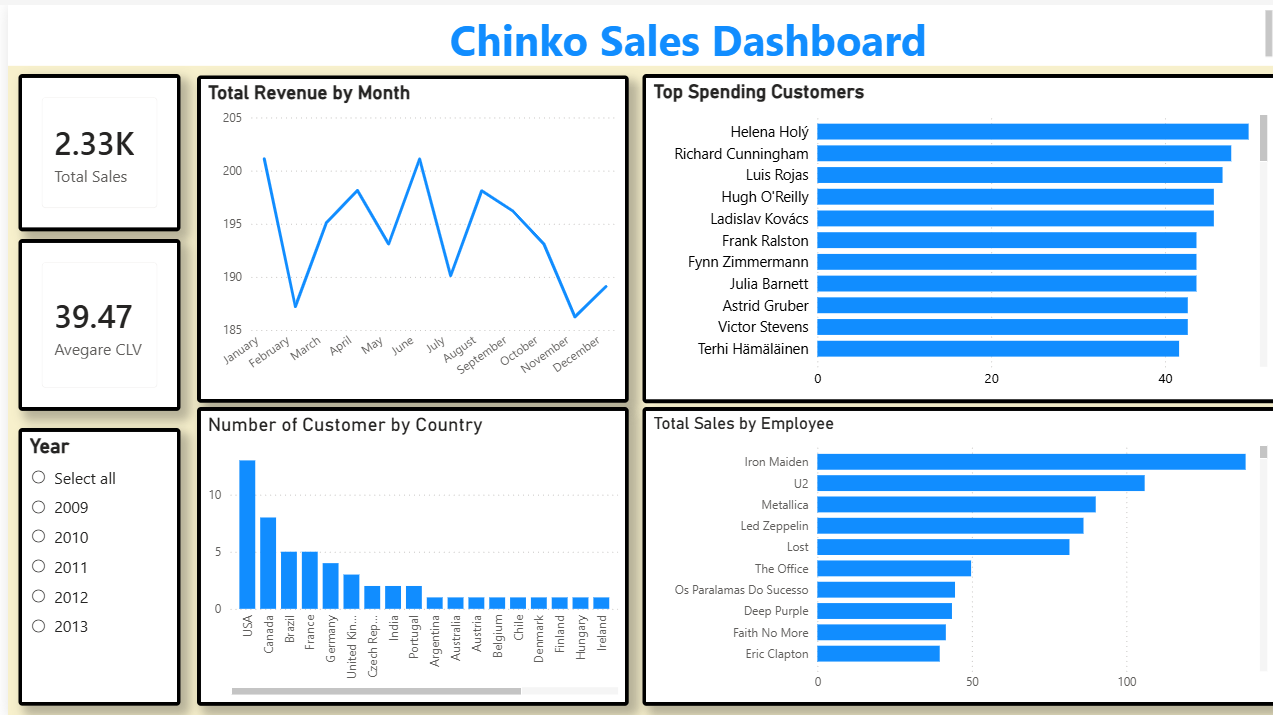

The page's visual inventory and layout, read from the dashboard file:
{"tool":"powerbi","page":{"name":"Dashboard","canvas":[1280,720],"ordinal":3},"visuals":[{"type":"cardVisual","fields":{"Data":["invoices.Total Sales"]},"box":[11.3,69.6,163.5,158.7],"z":0},{"type":"cardVisual","fields":{"Data":["invoices.Avegare CLV"]},"box":[11.3,236.4,163.5,173.3],"z":1000},{"type":"textbox","box":[0,0,1280.8,61.5],"z":2000},{"type":"lineChart","title":" Total Revenue by Month","fields":{"Y":["Sum(invoices.Total)"],"Category":["invoices.InvoiceDate.Variation.Date Hierarchy.Month"]},"box":[191.1,71.2,435.6,330.3],"z":3000},{"type":"columnChart","title":"Number of Customer by Country","fields":{"Category":["customers.Country"],"Y":["CountNonNull(customers.CustomerId)"]},"box":[191.1,404.8,435.6,301.2],"z":4000},{"type":"barChart","title":"Total Sales by Employee","fields":{"Category":["artists.Name"],"Y":["invoices.Total Sales"]},"box":[639.6,404.8,641.2,301.2],"z":5000},{"type":"listSlicer","fields":{"Values":["invoices.InvoiceDate.Variation.Date Hierarchy.Year"]},"box":[11.3,425.9,163.5,280.1],"z":7000},{"type":"barChart","title":"Top Spending Customers","fields":{"Category":["customers.Full Name"],"Y":["invoices.Avegare CLV"]},"box":[639.6,69.6,641.2,331.9],"z":8000}]}

Visuals, with their boxes in screenshot pixels (x1, y1, x2, y2), scaled from the page's 1280x720 canvas onto the 1273x715 screenshot:
cardVisual - invoices.Total Sales: 11:69:174:227
cardVisual - invoices.Avegare CLV: 11:235:174:407
textbox: 0:0:1272:61
" Total Revenue by Month" lineChart: 190:71:623:399
"Number of Customer by Country" columnChart: 190:402:623:701
"Total Sales by Employee" barChart: 636:402:1272:701
listSlicer - invoices.InvoiceDate.Variation.Date Hierarchy.Year: 11:423:174:701
"Top Spending Customers" barChart: 636:69:1272:399
